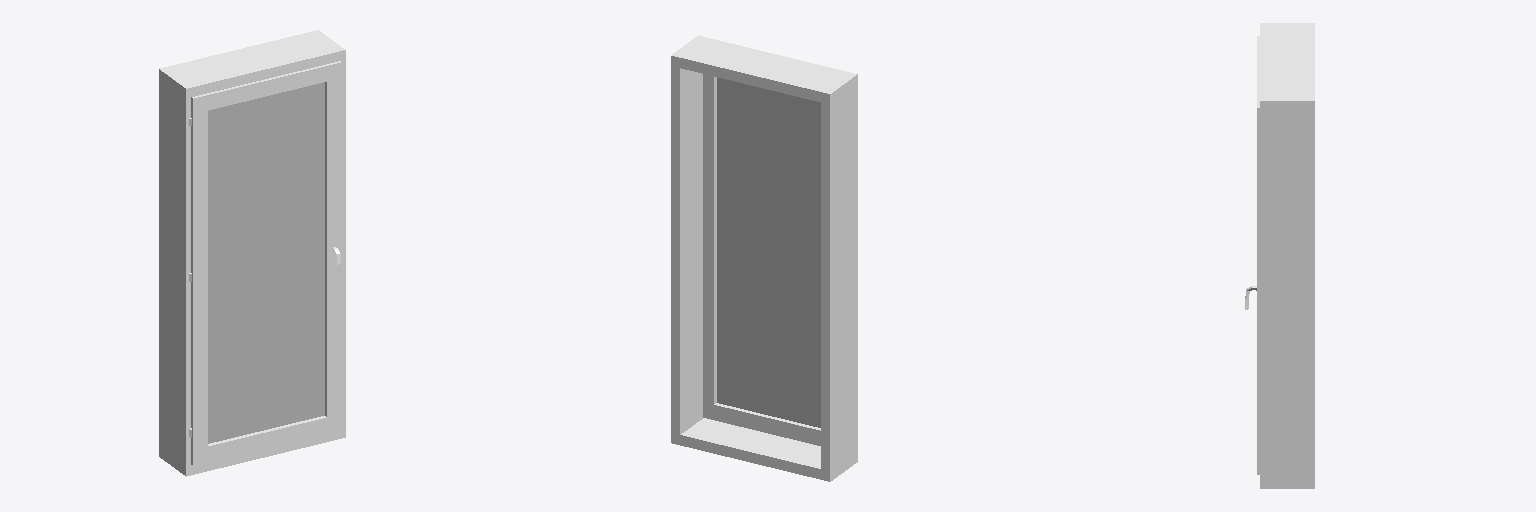
3 renders of one model, left to right at view 1: azimuth 30°, elevation 25°; view 2: azimuth 150°, elevation 25°; view 3: azimuth 270°, elevation 25°, orthographic.
Parts seen in each view (by area): view 1: sweethome3d_window_pane_1, Tour_Fenetre_7, Fenetre_6; view 2: Tour_Fenetre_7, sweethome3d_window_pane_1, Fenetre_6; view 3: Tour_Fenetre_7, Fenetre_6.
Part boxes in pixels (left/top/right/bottom): sweethome3d_window_pane_1: left=208, top=82, right=324, bottom=443; Tour_Fenetre_7: left=159, top=30, right=345, bottom=476; Fenetre_6: left=191, top=61, right=341, bottom=465; Tour_Fenetre_7: left=671, top=35, right=857, bottom=481; sweethome3d_window_pane_1: left=717, top=77, right=820, bottom=427; Fenetre_6: left=703, top=74, right=820, bottom=445; Tour_Fenetre_7: left=1260, top=23, right=1314, bottom=488; Fenetre_6: left=1257, top=36, right=1259, bottom=474.
Size of the model in its own units: 0.91 by 2.11 by 0.3438.